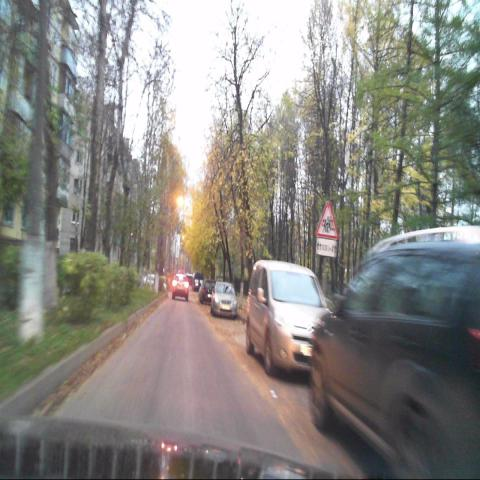8_2_1: (316, 238, 338, 258)
